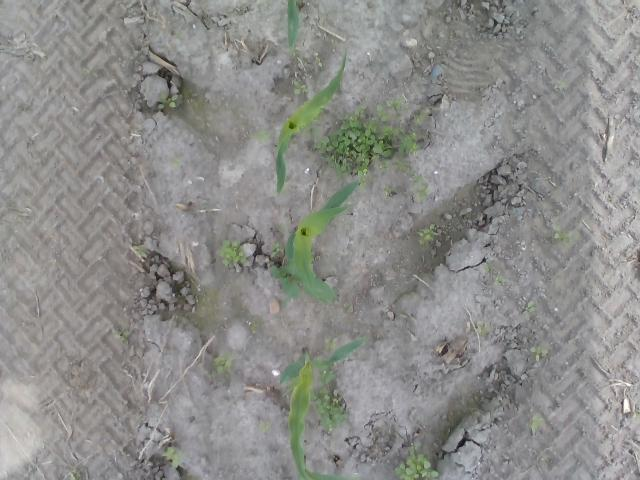Maize: (278, 337, 366, 480), (268, 177, 361, 306), (274, 47, 348, 194), (286, 0, 300, 51)
Weeds: (311, 98, 428, 174), (312, 369, 349, 430), (392, 441, 440, 480), (272, 265, 300, 304), (217, 238, 248, 269), (162, 444, 184, 469), (483, 262, 505, 286), (410, 174, 428, 200), (157, 90, 179, 111), (528, 343, 550, 362), (554, 224, 578, 241), (214, 353, 232, 375), (418, 222, 437, 242), (270, 239, 286, 258), (112, 329, 132, 344), (527, 416, 545, 432), (292, 80, 309, 96), (254, 128, 270, 144), (474, 320, 488, 338), (323, 336, 338, 352), (520, 301, 535, 315), (258, 418, 270, 434), (132, 245, 146, 258), (288, 47, 298, 57), (70, 472, 80, 480), (384, 186, 392, 193)
